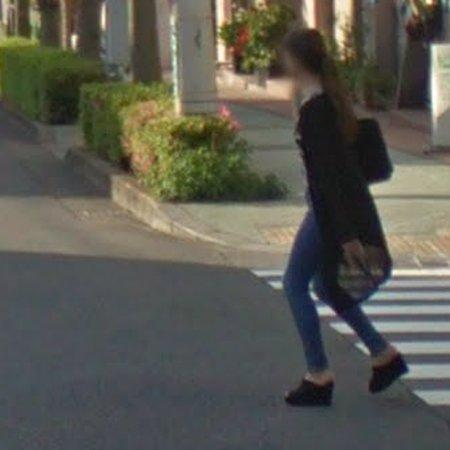crosswalks: (366, 267, 450, 425)
